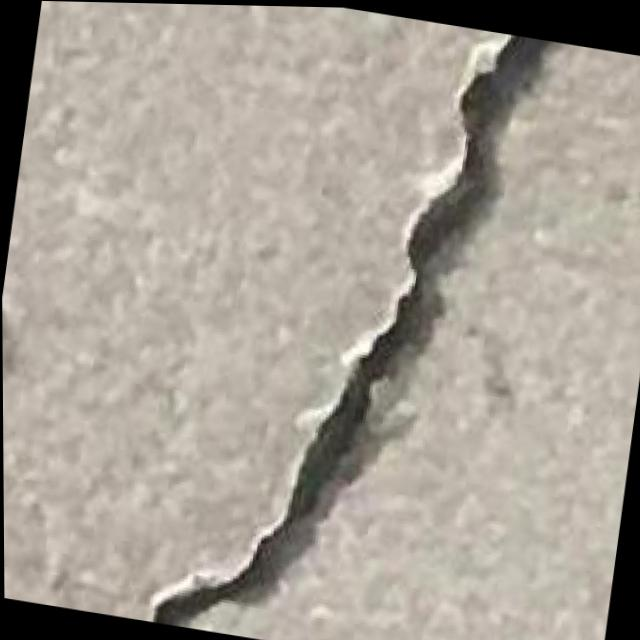Crack: (129, 2, 575, 640)
